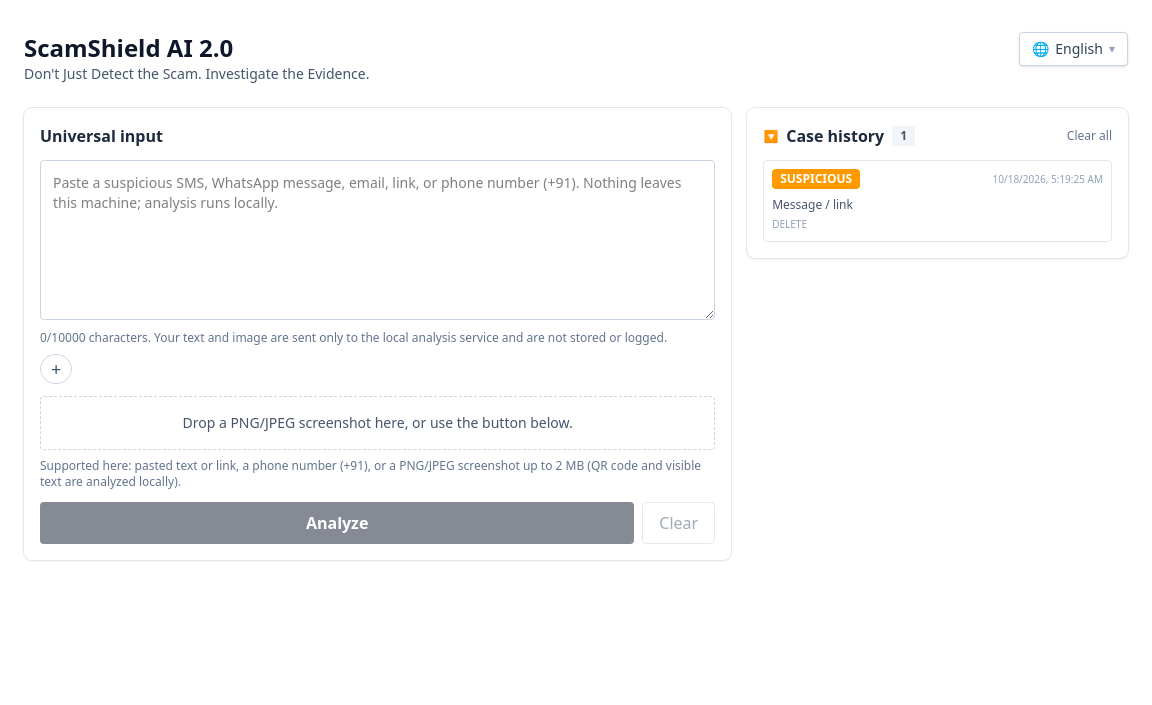
Scenario: App integration › restores a saved case from history after reload
What coordinates should you click on to do the following:
click the button "Message / link"
I would click on:
 (813, 204)
Its box is [772,197,1103,213].
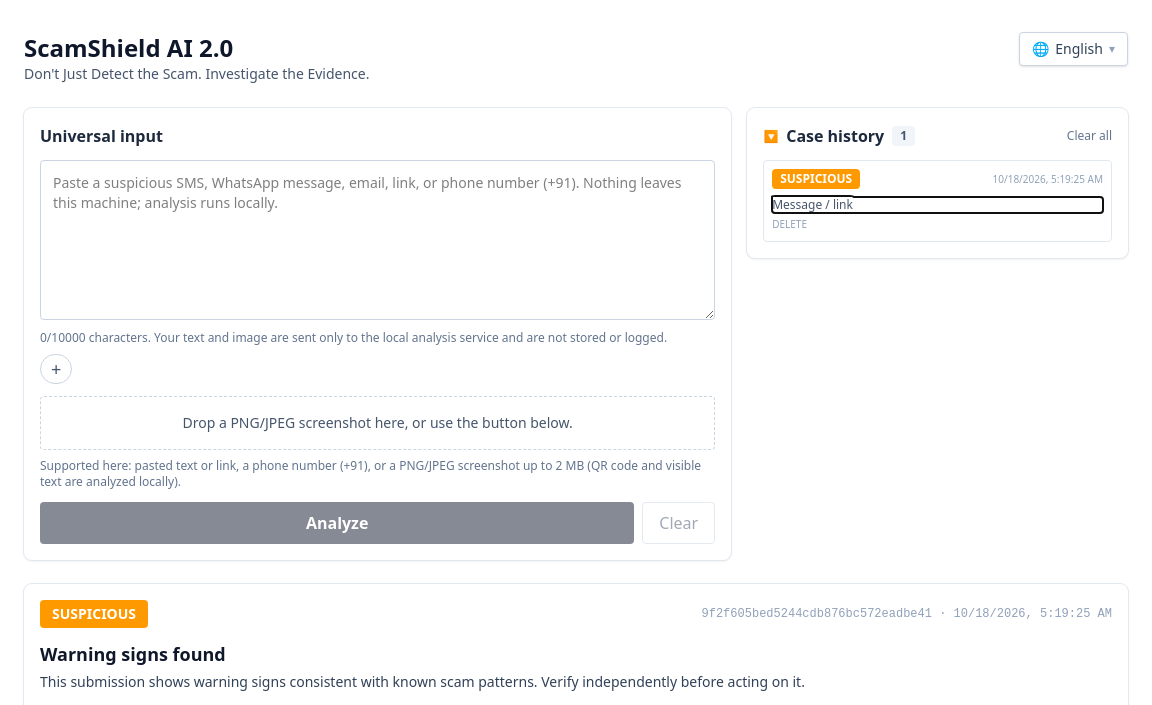
Expected: the heading "Warning signs found" is shown, [40,642,226,666]
